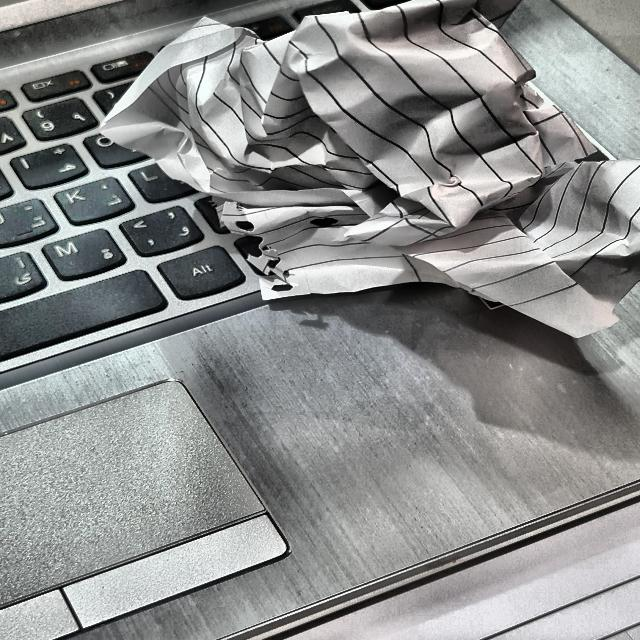paper: (126, 0, 640, 316)
